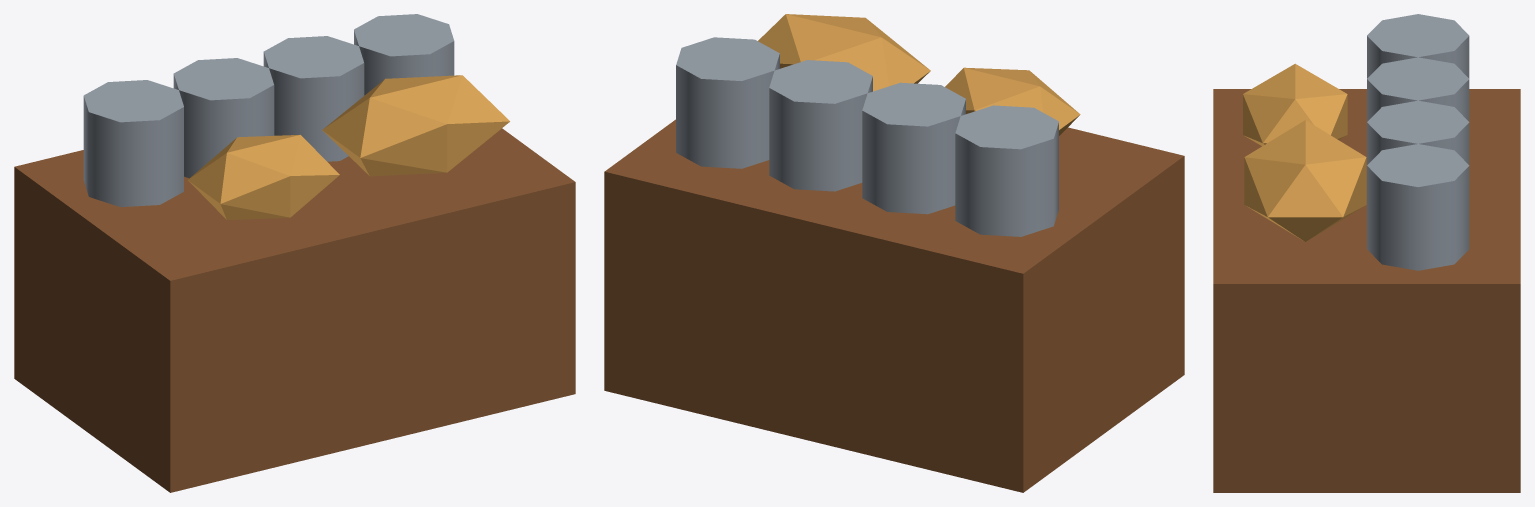
Rendered from f_food.glb.
3 renders of one model, left to right at view 1: azimuth 30°, elevation 25°; view 2: azimuth 150°, elevation 25°; view 3: azimuth 270°, elevation 25°, orthographic. The views are drawn at different scales.
Parts seen in each view (by area): view 1: food; view 2: food; view 3: food.
Boxes of the visible parts, <box> form: food: <box>14,14,575,492</box>; food: <box>604,14,1184,492</box>; food: <box>1213,14,1520,492</box>.
Bounding box in the file's own units: 0.9 × 0.6384 × 0.6.
